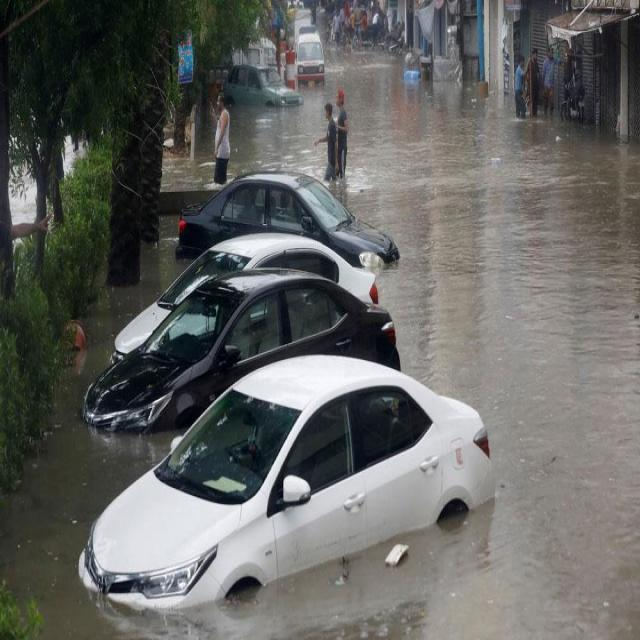water: (1, 43, 637, 639), (228, 86, 329, 181)
